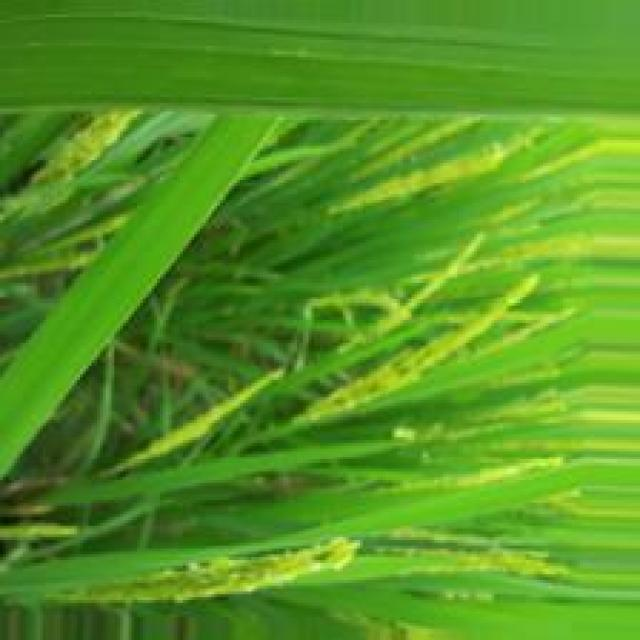HealthyLeaf: (5, 137, 251, 458), (3, 5, 636, 109)
